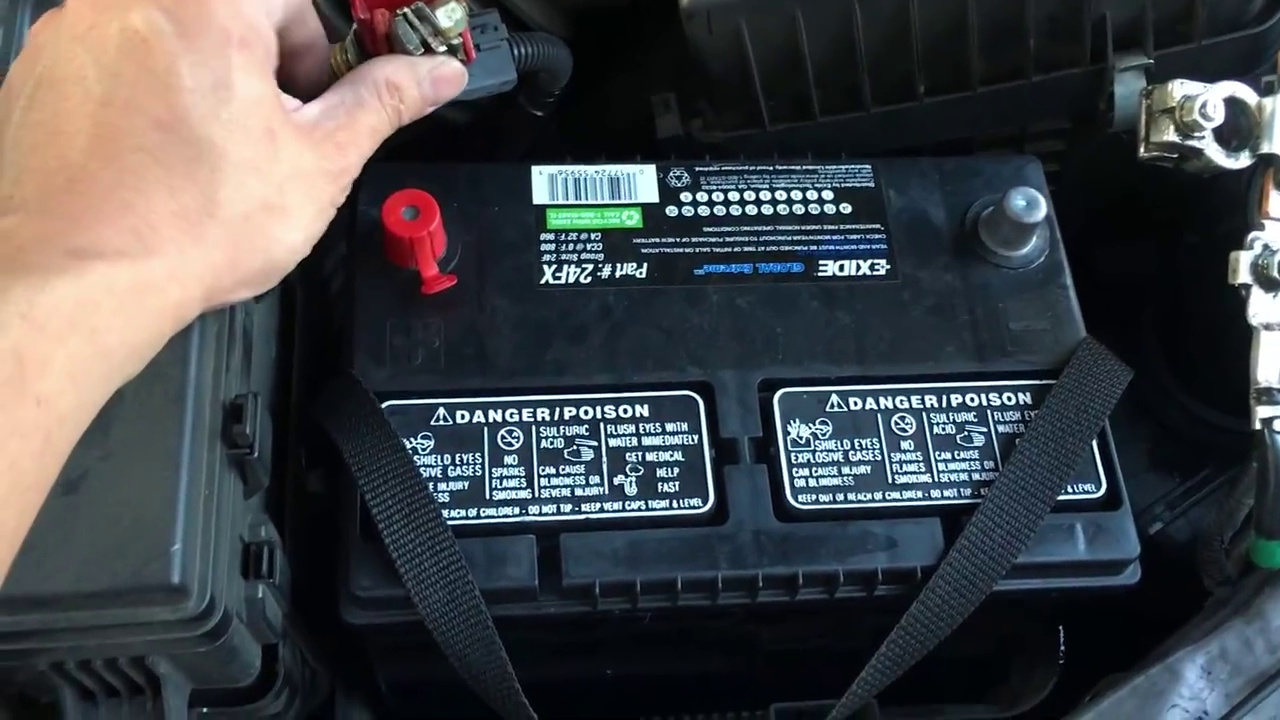battery: (328, 143, 1105, 513)
neg_disconnected: (925, 174, 1107, 291)
pos_disconnected: (330, 4, 529, 284)
pos_touched: (207, 2, 491, 277)
